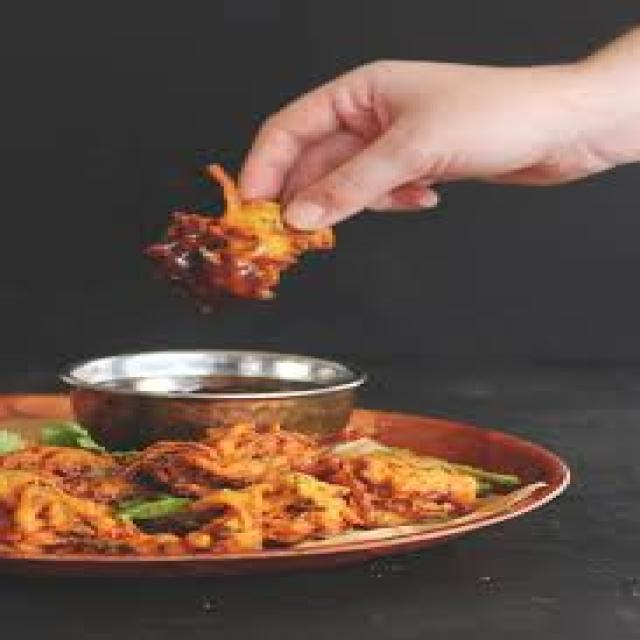BAJI: (0, 416, 500, 568)
